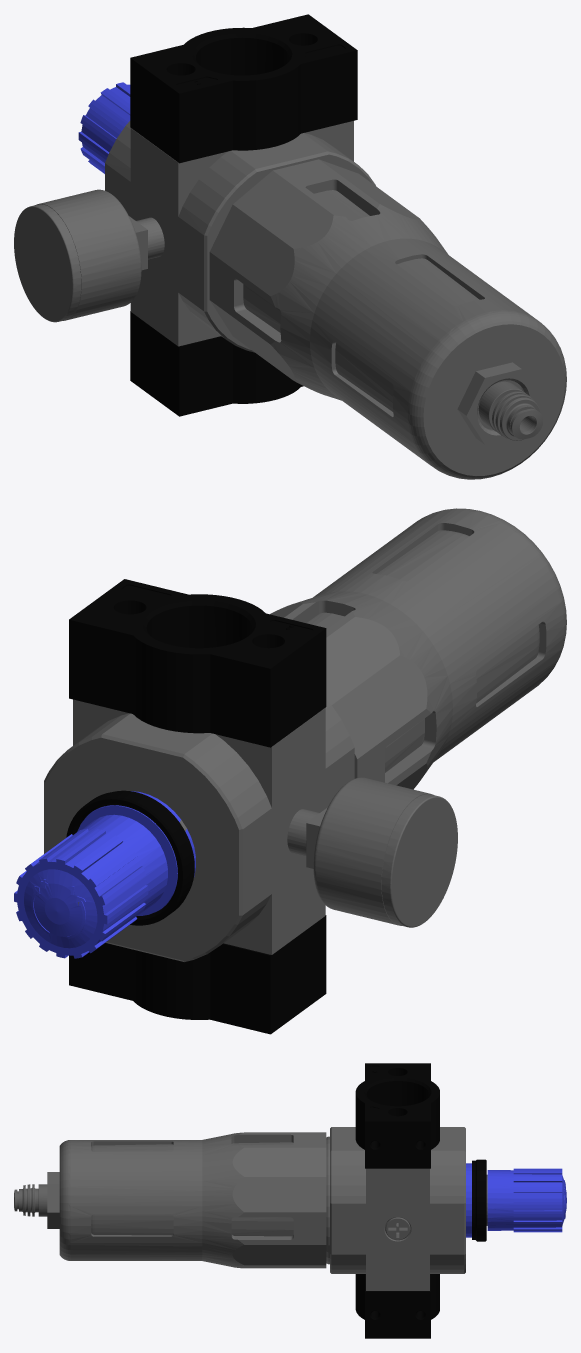
File: madre del aire de la primera celda .fbx
3 renders of one model, top to bottom at view 1: azimuth 30°, elevation 25°; view 2: azimuth 150°, elevation 25°; view 3: azimuth 270°, elevation 25°, orthographic. The views are drawn at different scales.
Parts seen in each view (by area): view 1: Ensamblaje1 - 159637 LFR-1-D-MAXI-A---(0)-1 124086 LFR-D-MAX, Ensamblaje1 - 159637 LFR-1-D-MAXI-A---(0)-1 380315 PBL-1-D-M, Ensamblaje1 - 159637 LFR-1-D-MAXI-A---(0)-1 8003639 PAGN-40-, Ensamblaje1 - 159637 LFR-1-D-MAXI-A---(0)-1 380313 PBL-1-D-M, Ensamblaje1 - 159637 LFR-1-D-MAXI-A---(0)-1 526489 MS4-LFR-V; view 2: Ensamblaje1 - 159637 LFR-1-D-MAXI-A---(0)-1 124086 LFR-D-MAX, Ensamblaje1 - 159637 LFR-1-D-MAXI-A---(0)-1 380315 PBL-1-D-M, Ensamblaje1 - 159637 LFR-1-D-MAXI-A---(0)-1 8003639 PAGN-40-, Ensamblaje1 - 159637 LFR-1-D-MAXI-A---(0)-1 380313 PBL-1-D-M, Ensamblaje1 - 159637 LFR-1-D-MAXI-A---(0)-1 398011 LRVS-D-MI; view 3: Ensamblaje1 - 159637 LFR-1-D-MAXI-A---(0)-1 124086 LFR-D-MAX, Ensamblaje1 - 159637 LFR-1-D-MAXI-A---(0)-1 380315 PBL-1-D-M, Ensamblaje1 - 159637 LFR-1-D-MAXI-A---(0)-1 380313 PBL-1-D-M, Ensamblaje1 - 159637 LFR-1-D-MAXI-A---(0)-1 398011 LRVS-D-MI, Ensamblaje1 - 159637 LFR-1-D-MAXI-A---(0)-1 526489 MS4-LFR-V, Ensamblaje1 - 159637 LFR-1-D-MAXI-A---(0)-1 125696 LR_LFR-D-.
Part boxes in pixels (x1=…): Ensamblaje1 - 159637 LFR-1-D-MAXI-A---(0)-1 124086 LFR-D-MAX: x1=78, y1=82, x2=566, y2=479; Ensamblaje1 - 159637 LFR-1-D-MAXI-A---(0)-1 380315 PBL-1-D-M: x1=130, y1=14, x2=357, y2=163; Ensamblaje1 - 159637 LFR-1-D-MAXI-A---(0)-1 8003639 PAGN-40-: x1=14, y1=189, x2=164, y2=322; Ensamblaje1 - 159637 LFR-1-D-MAXI-A---(0)-1 380313 PBL-1-D-M: x1=130, y1=311, x2=303, y2=416; Ensamblaje1 - 159637 LFR-1-D-MAXI-A---(0)-1 526489 MS4-LFR-V: x1=478, y1=381, x2=542, y2=440; Ensamblaje1 - 159637 LFR-1-D-MAXI-A---(0)-1 124086 LFR-D-MAX: x1=14, y1=508, x2=566, y2=961; Ensamblaje1 - 159637 LFR-1-D-MAXI-A---(0)-1 380315 PBL-1-D-M: x1=69, y1=579, x2=326, y2=747; Ensamblaje1 - 159637 LFR-1-D-MAXI-A---(0)-1 8003639 PAGN-40-: x1=287, y1=777, x2=457, y2=927; Ensamblaje1 - 159637 LFR-1-D-MAXI-A---(0)-1 380313 PBL-1-D-M: x1=69, y1=915, x2=326, y2=1034; Ensamblaje1 - 159637 LFR-1-D-MAXI-A---(0)-1 398011 LRVS-D-MI: x1=66, y1=790, x2=194, y2=925; Ensamblaje1 - 159637 LFR-1-D-MAXI-A---(0)-1 124086 LFR-D-MAX: x1=47, y1=1127, x2=566, y2=1290; Ensamblaje1 - 159637 LFR-1-D-MAXI-A---(0)-1 380315 PBL-1-D-M: x1=355, y1=1063, x2=439, y2=1168; Ensamblaje1 - 159637 LFR-1-D-MAXI-A---(0)-1 380313 PBL-1-D-M: x1=355, y1=1274, x2=439, y2=1338; Ensamblaje1 - 159637 LFR-1-D-MAXI-A---(0)-1 398011 LRVS-D-MI: x1=472, y1=1159, x2=486, y2=1241; Ensamblaje1 - 159637 LFR-1-D-MAXI-A---(0)-1 526489 MS4-LFR-V: x1=14, y1=1184, x2=47, y2=1216; Ensamblaje1 - 159637 LFR-1-D-MAXI-A---(0)-1 125696 LR_LFR-D-: x1=385, y1=1217, x2=410, y2=1240.
Bounding box in the file's own units: 1090 × 1160 × 2682.
